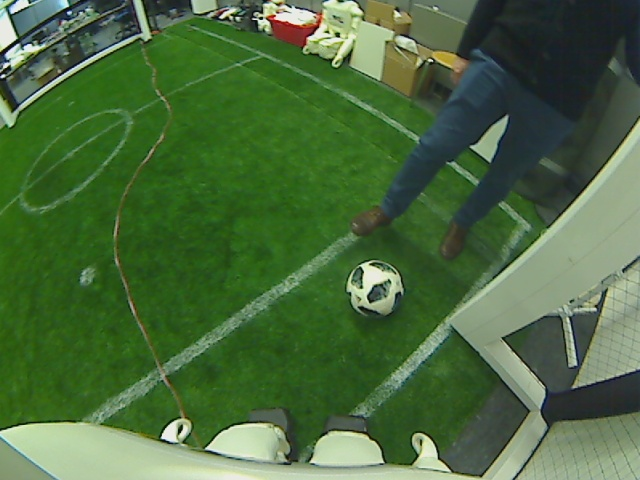ball: (343, 258, 406, 317)
